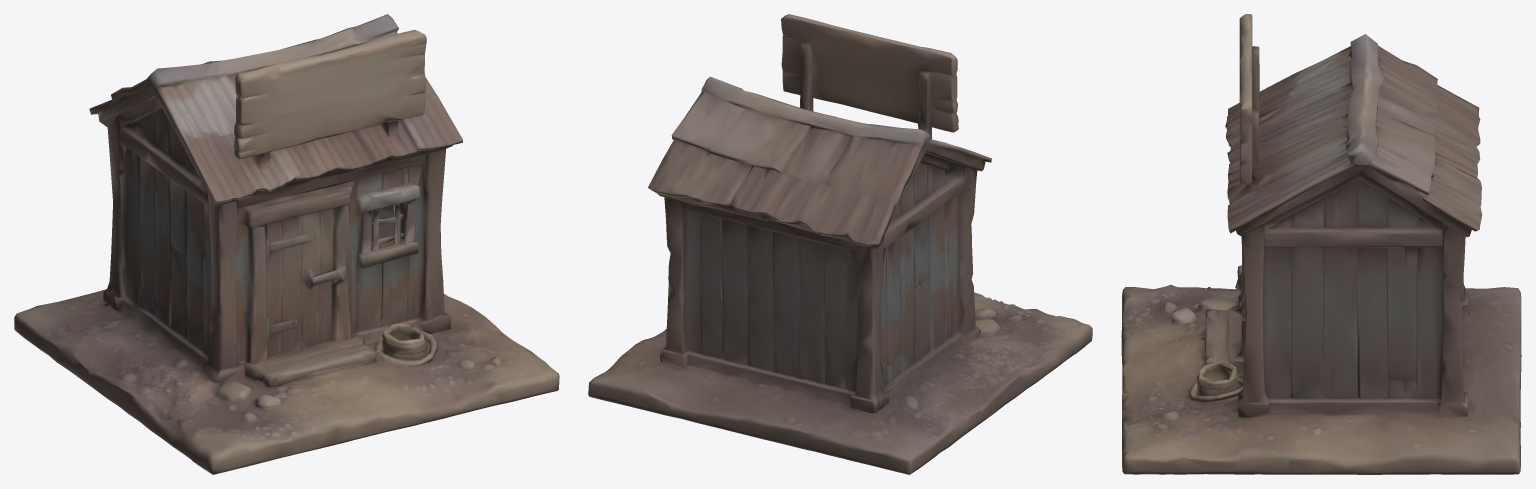
File: seaport_customs_shed.glb
3 renders of one model, left to right at view 1: azimuth 30°, elevation 25°; view 2: azimuth 150°, elevation 25°; view 3: azimuth 270°, elevation 25°, orthographic. The views are drawn at different scales.
Parts seen in each view (by area): view 1: tripo_node_62672f3c-49dd-41b9-9981-59735642c642; view 2: tripo_node_62672f3c-49dd-41b9-9981-59735642c642; view 3: tripo_node_62672f3c-49dd-41b9-9981-59735642c642.
Part boxes in pixels (x1=…): tripo_node_62672f3c-49dd-41b9-9981-59735642c642: x1=14, y1=14, x2=559, y2=474; tripo_node_62672f3c-49dd-41b9-9981-59735642c642: x1=588, y1=14, x2=1092, y2=474; tripo_node_62672f3c-49dd-41b9-9981-59735642c642: x1=1121, y1=14, x2=1521, y2=474.
Bounding box in the file's own units: 1 × 0.9121 × 0.9839.
Materials: 1 (1 with a texture image).
